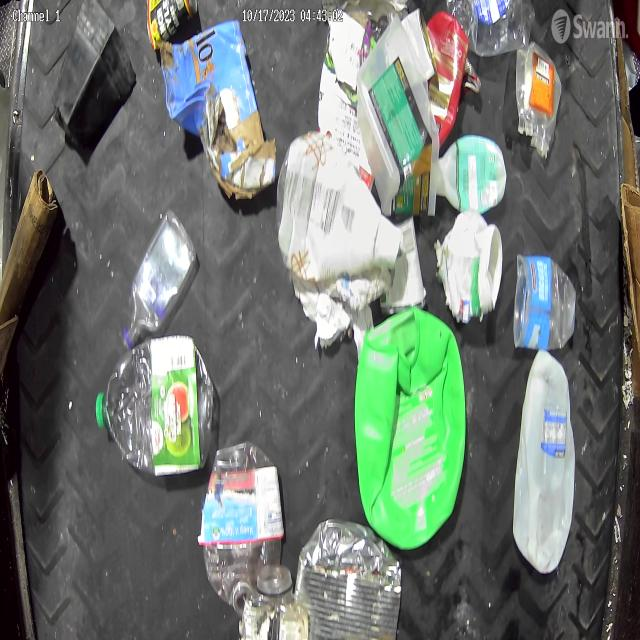can: (295, 521, 402, 640)
milk_jug: (514, 348, 576, 570), (434, 132, 507, 212)
non_white_jug: (356, 304, 464, 548)
plastic_bottle: (93, 337, 220, 475), (203, 440, 286, 612), (441, 0, 536, 56)
